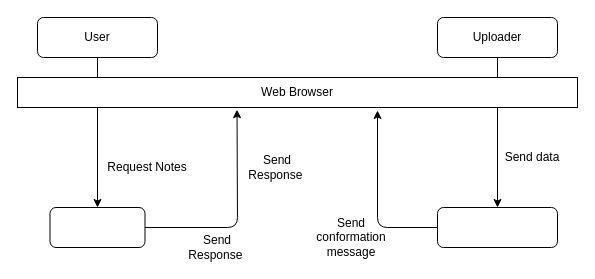
Image size: 595x279. Some labels were removed from this diagram. The centre of each missing label's shape, as x and y in pixels:
"Firebase" belongs at pixel 97 227.
"Store data in firebase" belongs at pixel 497 227.
